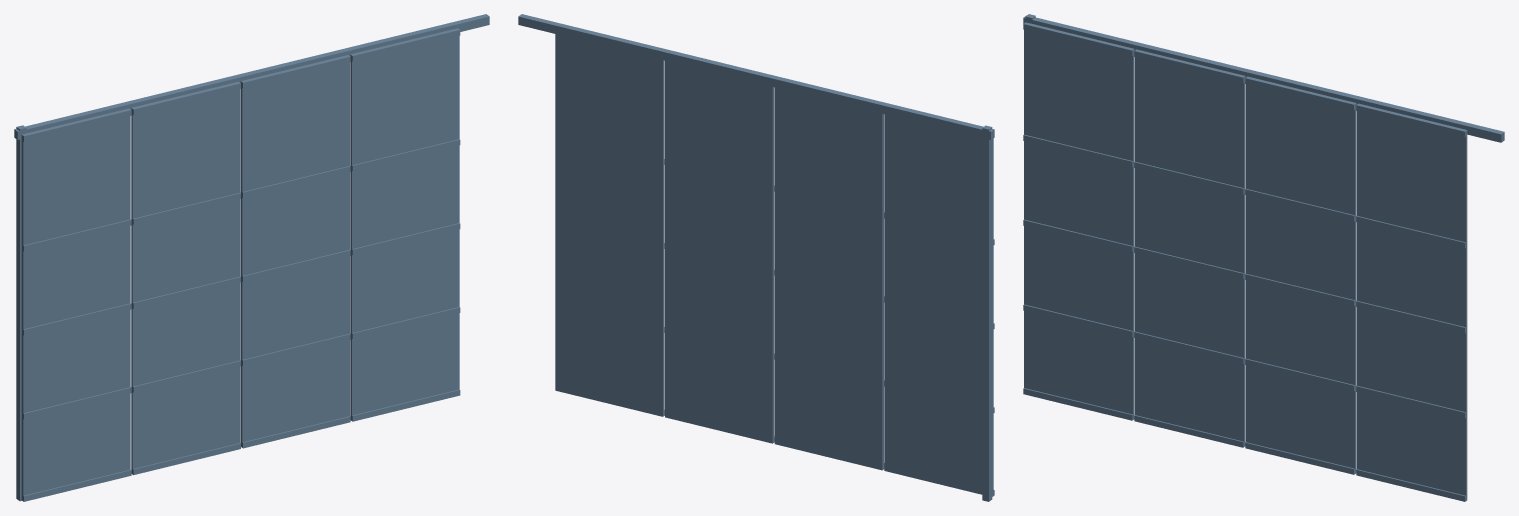
The model's file is pintu.glb.
3 views of the same model, side by side, from view 1: azimuth 30°, elevation 25°; view 2: azimuth 150°, elevation 25°; view 3: azimuth 330°, elevation 25° (orthographic).
Visible parts, largest first — view 1: pintu; view 2: pintu; view 3: pintu.
Boxes of the visible parts, left/top/right/bottom form: pintu: left=14, top=14, right=489, bottom=501; pintu: left=518, top=14, right=994, bottom=501; pintu: left=1023, top=14, right=1504, bottom=501.
Bounding box in the file's own units: 7.07 × 5.32 × 0.17.
